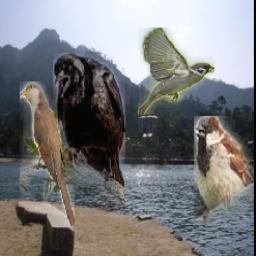Crow: (53, 53, 125, 214)
Cuckoo: (21, 82, 76, 226)
Sparrow: (138, 28, 215, 115), (194, 117, 254, 226)
